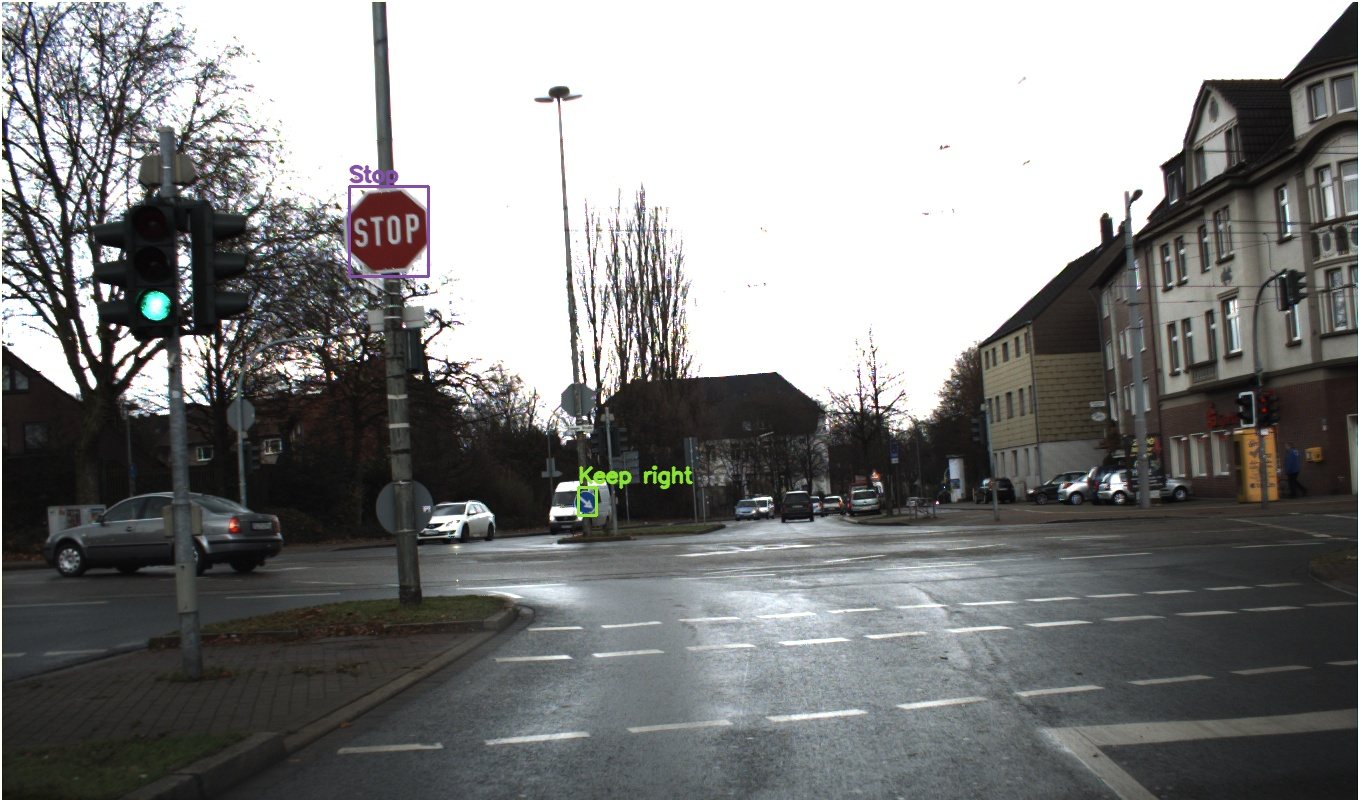General caution: (783, 446, 804, 464)
Road narrows on the right: (800, 426, 831, 456)
Speed limit (30km/h): (805, 458, 827, 480)
